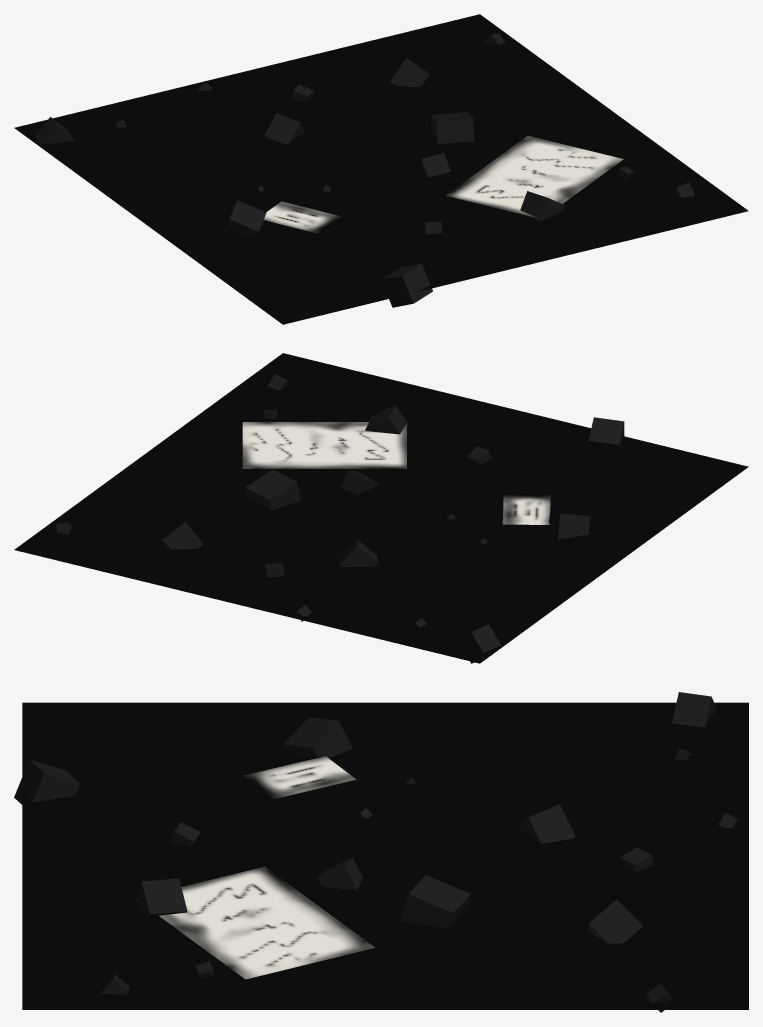
The model's file is Trash.fbx.
3 views of the same model, one above another, from view 1: azimuth 30°, elevation 25°; view 2: azimuth 150°, elevation 25°; view 3: azimuth 270°, elevation 25° (orthographic). The views are drawn at different scales.
Visible parts, largest first — view 1: Trash, Trash.001, Trash|TrashP|Dupli|7, Trash|TrashP|Dupli|4, Trash|TrashP|Dupli|5, Trash|TrashP|Dupli|6, Trash|TrashP|Dupli|12, Trash|TrashP|Dupli|3, Trash|TrashP|Dupli|11, Trash|TrashP|Dupli|17; view 2: Trash, Trash.001, Trash|TrashP|Dupli|4, Trash|TrashP|Dupli|7, Trash|TrashP|Dupli|5, Trash|TrashP|Dupli|6, Trash|TrashP|Dupli|12, Trash|TrashP|Dupli|3, Trash|TrashP|Dupli|11, Trash|TrashP|Dupli|17; view 3: Trash, Trash.001, Trash|TrashP|Dupli|4, Trash|TrashP|Dupli|5, Trash|TrashP|Dupli|7, Trash|TrashP|Dupli|6, Trash|TrashP|Dupli|3, Trash|TrashP|Dupli|12, Trash|TrashP|Dupli|11, Trash|TrashP|Dupli|17, Trash|TrashP|Dupli|14.
Part boxes in pixels (<box>): Trash: <box>14,14,748,324</box>; Trash.001: <box>263,135,623,233</box>; Trash|TrashP|Dupli|7: <box>381,263,432,307</box>; Trash|TrashP|Dupli|4: <box>431,112,474,143</box>; Trash|TrashP|Dupli|5: <box>224,200,266,235</box>; Trash|TrashP|Dupli|6: <box>520,191,565,221</box>; Trash|TrashP|Dupli|12: <box>264,113,304,144</box>; Trash|TrashP|Dupli|3: <box>390,58,431,86</box>; Trash|TrashP|Dupli|11: <box>34,117,74,144</box>; Trash|TrashP|Dupli|17: <box>421,153,450,178</box>; Trash: <box>14,353,748,663</box>; Trash.001: <box>242,422,550,524</box>; Trash|TrashP|Dupli|4: <box>245,469,300,510</box>; Trash|TrashP|Dupli|7: <box>588,417,624,449</box>; Trash|TrashP|Dupli|5: <box>548,512,590,539</box>; Trash|TrashP|Dupli|6: <box>365,405,408,434</box>; Trash|TrashP|Dupli|12: <box>339,539,377,566</box>; Trash|TrashP|Dupli|3: <box>161,522,203,549</box>; Trash|TrashP|Dupli|11: <box>459,624,501,663</box>; Trash|TrashP|Dupli|17: <box>340,470,378,494</box>; Trash: <box>22,702,748,1009</box>; Trash.001: <box>135,756,375,979</box>; Trash|TrashP|Dupli|4: <box>400,875,470,928</box>; Trash|TrashP|Dupli|5: <box>283,717,352,759</box>; Trash|TrashP|Dupli|7: <box>14,759,79,804</box>; Trash|TrashP|Dupli|6: <box>135,878,187,918</box>; Trash|TrashP|Dupli|3: <box>587,899,643,943</box>; Trash|TrashP|Dupli|12: <box>518,804,575,843</box>; Trash|TrashP|Dupli|11: <box>672,692,716,727</box>; Trash|TrashP|Dupli|17: <box>318,857,362,890</box>; Trash|TrashP|Dupli|14: <box>620,847,653,871</box>.
Bounding box in the file's own units: 208 × 210 × 18.88.
